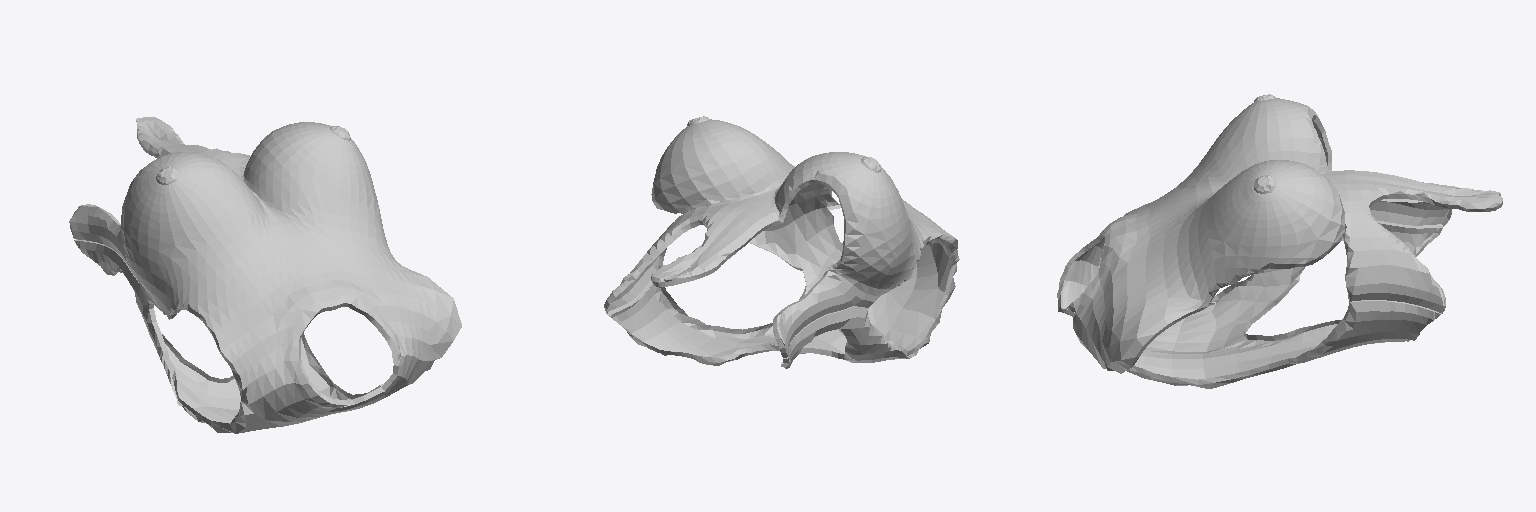
The model's file is oozingcollar2.obj.
3 views of the same model, side by side, from view 1: azimuth 30°, elevation 25°; view 2: azimuth 150°, elevation 25°; view 3: azimuth 270°, elevation 25° (orthographic).
Parts seen in each view (by area): view 1: BaseShape_Material.003; view 2: BaseShape_Material.003; view 3: BaseShape_Material.003.
Part boxes in pixels (x1,y1,x2,y2): BaseShape_Material.003: (69,117,461,433); BaseShape_Material.003: (604,116,959,368); BaseShape_Material.003: (1057,94,1502,388).
Bounding box in the file's own units: 24.64 × 21.4 × 37.35.